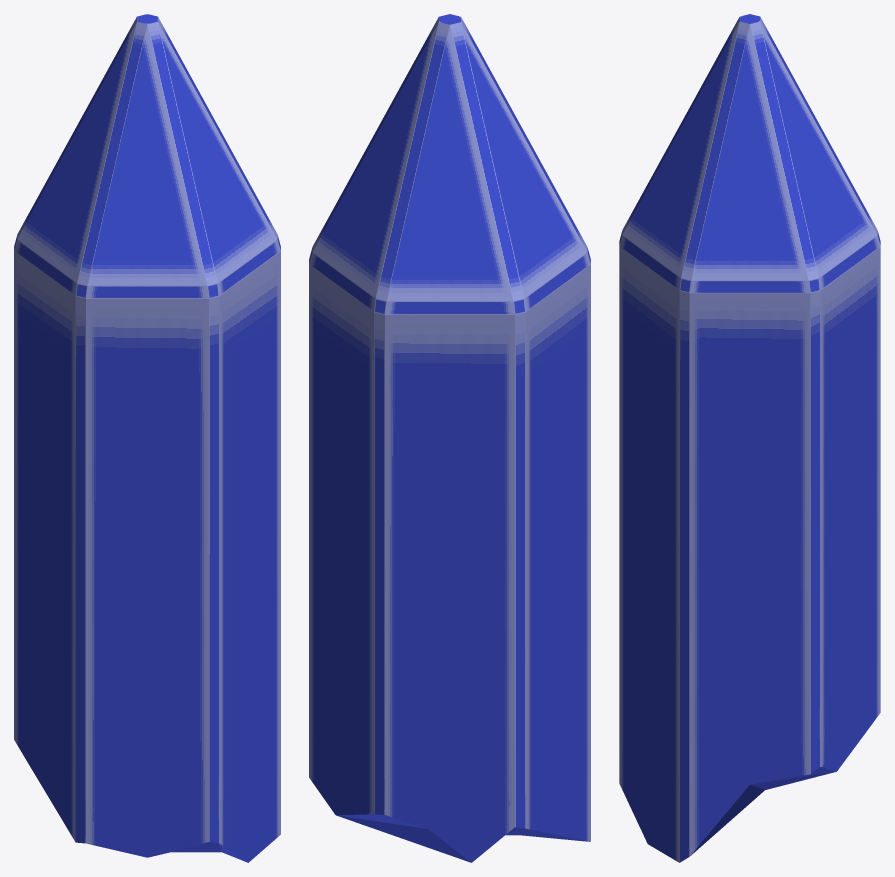
The model's file is brokenCrystalTop.fbx.
3 renders of one model, left to right at view 1: azimuth 30°, elevation 25°; view 2: azimuth 150°, elevation 25°; view 3: azimuth 270°, elevation 25°, orthographic. The views are drawn at different scales.
Visible parts, largest first — view 1: Cube_002; view 2: Cube_002; view 3: Cube_002.
Part boxes in pixels (box(x1,y1,x2,y2)): Cube_002: box(14, 14, 280, 862); Cube_002: box(309, 14, 590, 862); Cube_002: box(619, 14, 880, 862).
Size of the model in its own units: 1.73 by 6.6 by 1.95.
